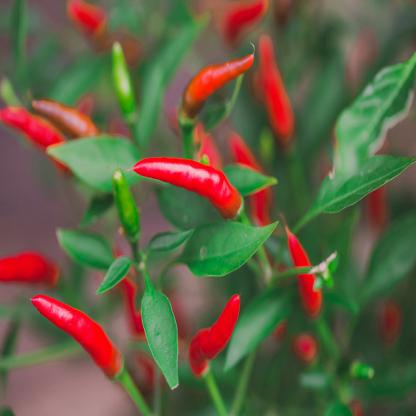chilli: (130, 142, 246, 227), (30, 290, 122, 383), (178, 51, 260, 125), (276, 214, 330, 326), (185, 288, 246, 376)
